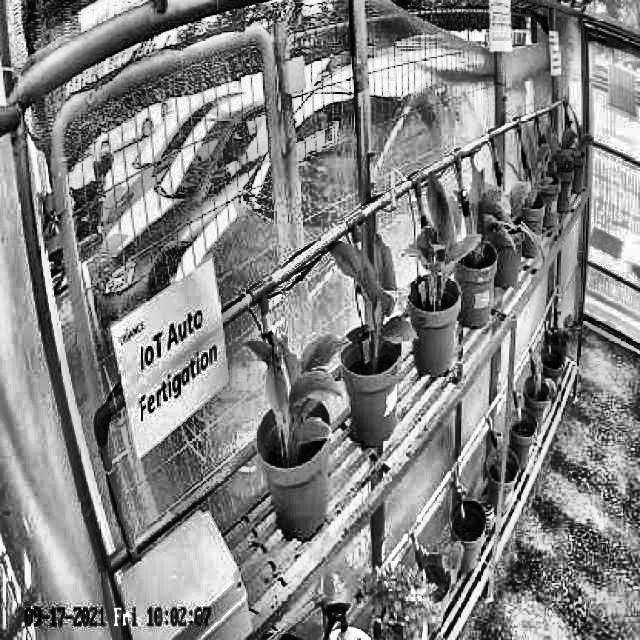plants: (248, 332, 350, 446), (329, 237, 417, 346), (407, 172, 475, 291), (468, 160, 512, 262), (524, 133, 556, 204)
